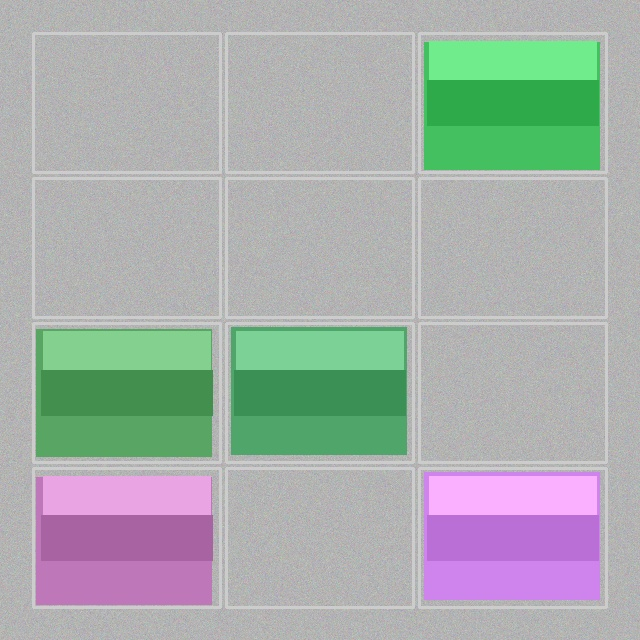space-empty: (35, 35, 218, 170), (228, 35, 411, 170), (35, 180, 218, 315), (228, 180, 411, 315), (421, 180, 604, 315), (421, 325, 604, 460), (228, 470, 411, 605)
space-occupied: (421, 35, 604, 170), (35, 325, 218, 460), (228, 325, 411, 460), (35, 470, 218, 605), (421, 470, 604, 605)
